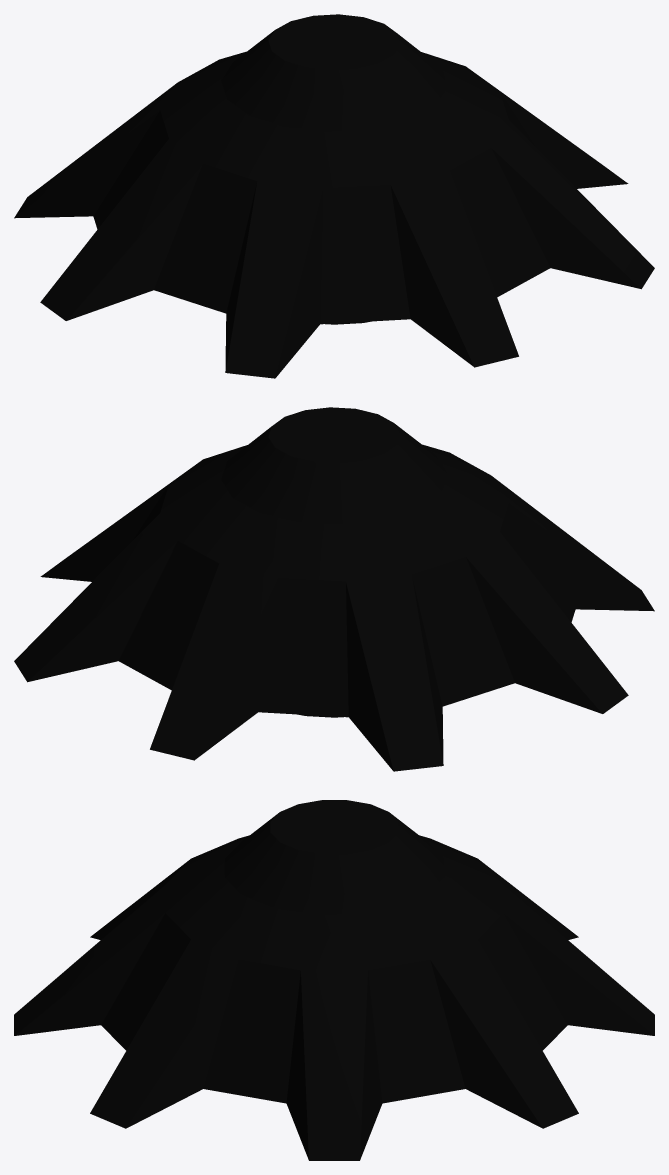
The model's file is Tantares_DockingMechanism_1_Guide.obj.
3 views of the same model, one above another, from view 1: azimuth 30°, elevation 25°; view 2: azimuth 150°, elevation 25°; view 3: azimuth 270°, elevation 25° (orthographic).
Visible parts, largest first — view 1: Tantares_DockingMechanism_1_Guide; view 2: Tantares_DockingMechanism_1_Guide; view 3: Tantares_DockingMechanism_1_Guide.
Boxes of the visible parts, left/top/right/bottom form: Tantares_DockingMechanism_1_Guide: left=14, top=14, right=654, bottom=378; Tantares_DockingMechanism_1_Guide: left=14, top=407, right=654, bottom=771; Tantares_DockingMechanism_1_Guide: left=14, top=800, right=654, bottom=1160.
Size of the model in its own units: 0.425 by 0.17 by 0.425.
1 material, 1 textured.
